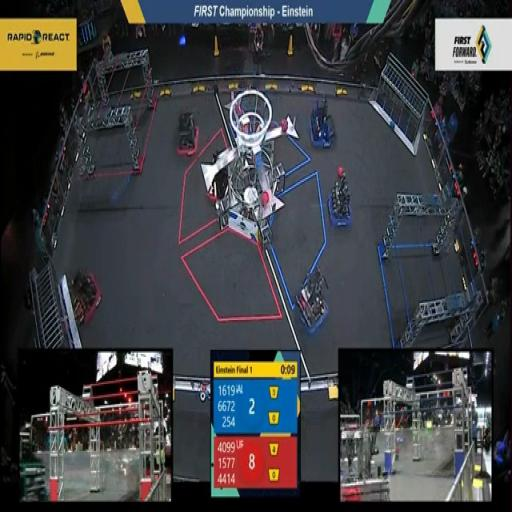robot: (291, 263, 331, 340), (327, 161, 357, 236), (67, 265, 103, 327), (306, 95, 336, 154), (174, 103, 202, 162), (206, 151, 234, 203)
